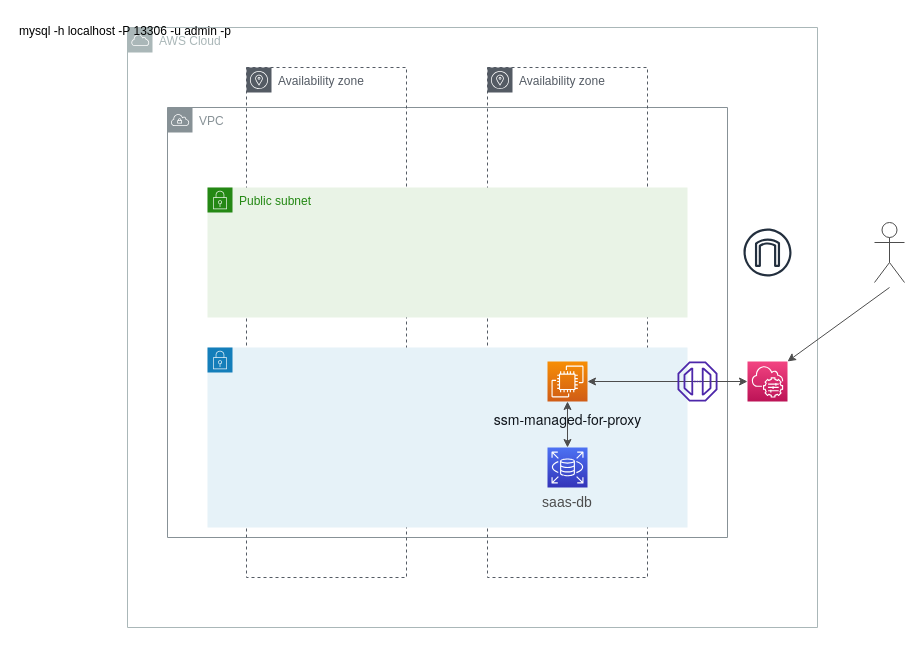
This 922x645 diagram has some shape labels left out. The shapes that lost their labels are listed below. From the top down, each one's centre as x and y in pixels, then its label:
At point (767, 252): "Internet gateway".
At point (889, 252): "Actor".
At point (447, 437): "Private subnet".
